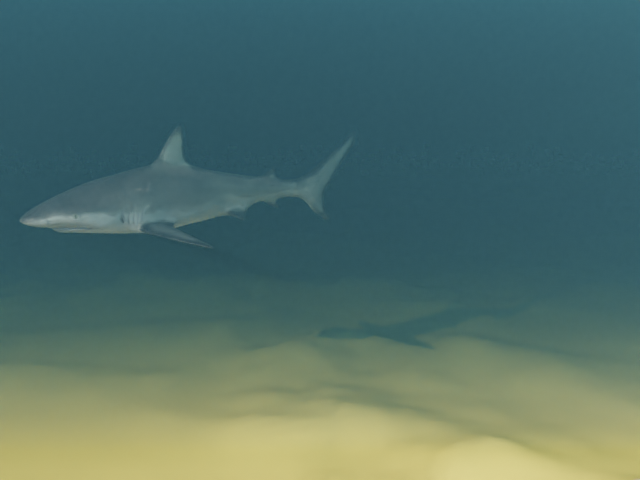Carribean Shark.001: (19, 125, 356, 248)
